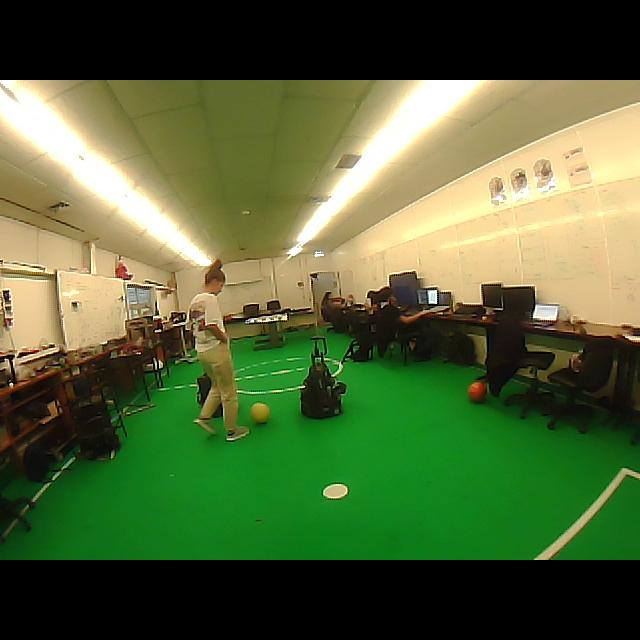ball: (250, 402, 270, 424), (469, 381, 486, 402)
robot: (301, 336, 346, 419), (72, 396, 121, 459), (196, 374, 211, 406), (213, 405, 222, 418)
